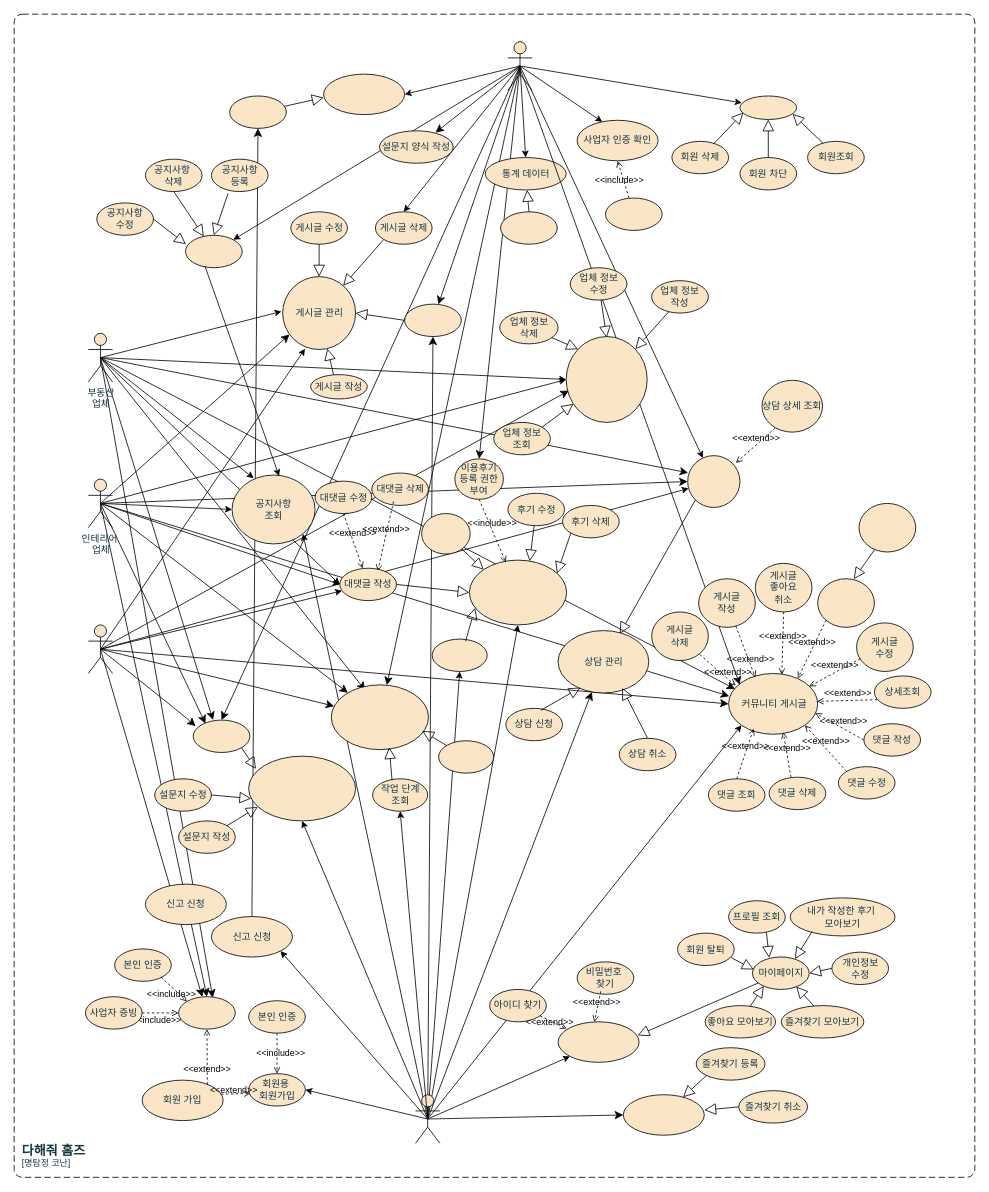
Some shapes in this 989 by 1192 pixel diagram are drawn without their labels. The shapes that lost their labels are listed below. From the top down, each one's centre as x and y in pixels, then its label:
At point 519,65: "관리자".
At point 257,111: "신고 접수".
At point 364,94: "신고 관리".
At point 768,107: "회원관리".
At point 528,227: "통계데이터 조회".
At point 633,213: "사업자 권한 부여".
At point 213,251: "공지사항 관리".
At point 432,320: "게시글 조회".
At point 606,379: "업체 관리".
At point 713,481: "상담 조회".
At point 445,533: "후기 작성".
At point 887,527: "게시글 좋아요 개수".
At point 518,592: "이용 후기".
At point 845,602: "게시글 좋아요".
At point 100,649: "이사 업체".
At point 459,654: "후기 조회".
At point 221,735: "설문지 조회".
At point 379,717: "작업단계".
At point 466,756: "작업 단계 수정".
At point 302,788: "요구사항 설문지".
At point 206,1012: "기업용 회원가입".
At point 598,1041: "로그인".
At point 427,1118: "사용자".
At point 663,1114: "즐겨찾기".
